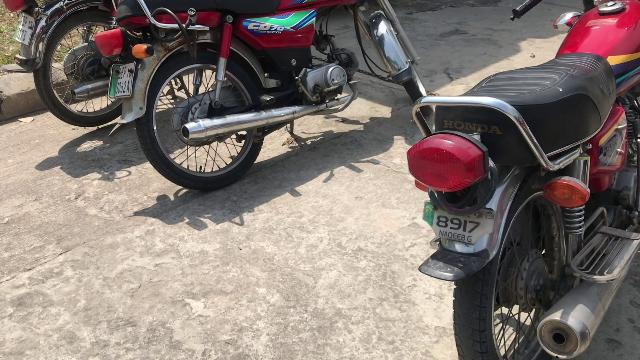plate: (419, 197, 499, 243)
